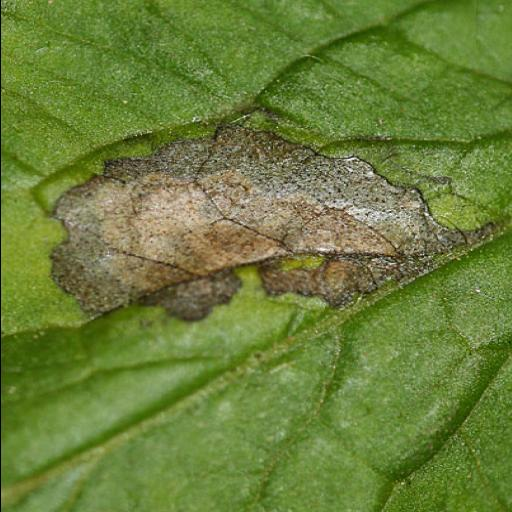Late Blight: (8, 3, 510, 512)
